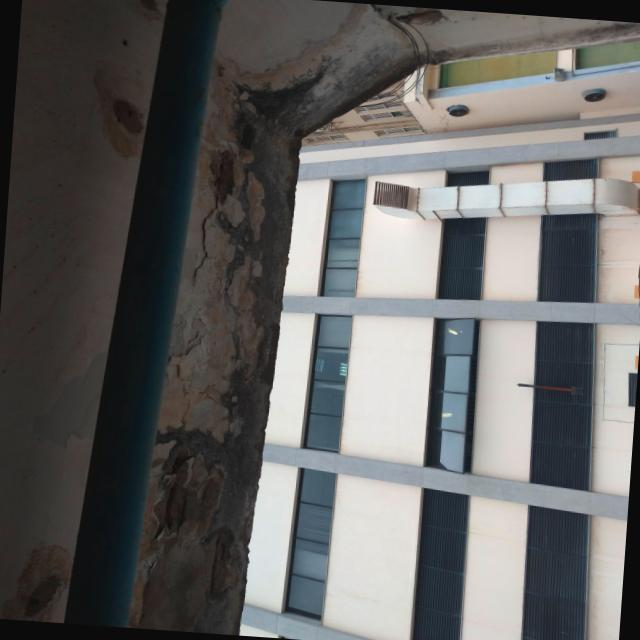gas: (67, 0, 226, 626)
